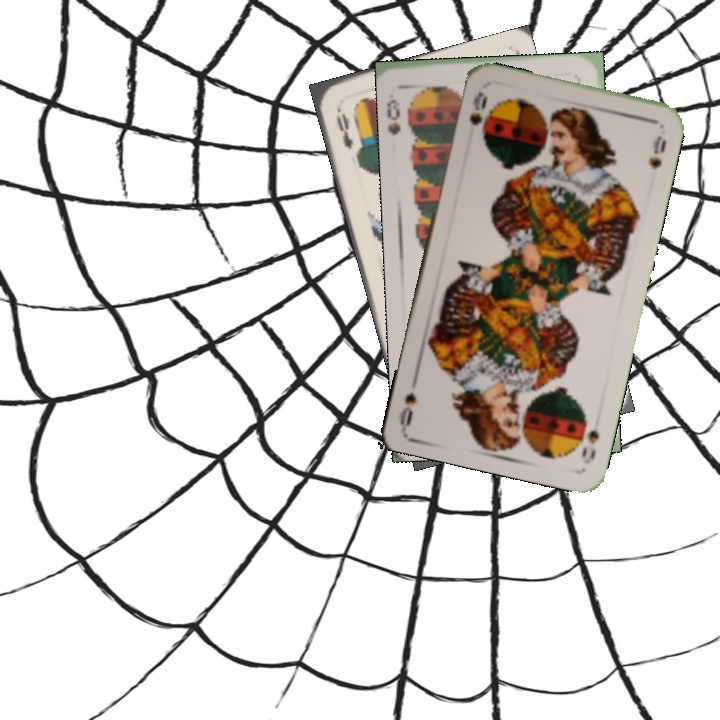EO: (332, 102, 356, 152)
S8: (384, 95, 403, 137)
SO: (465, 87, 490, 139), (577, 416, 602, 467)
